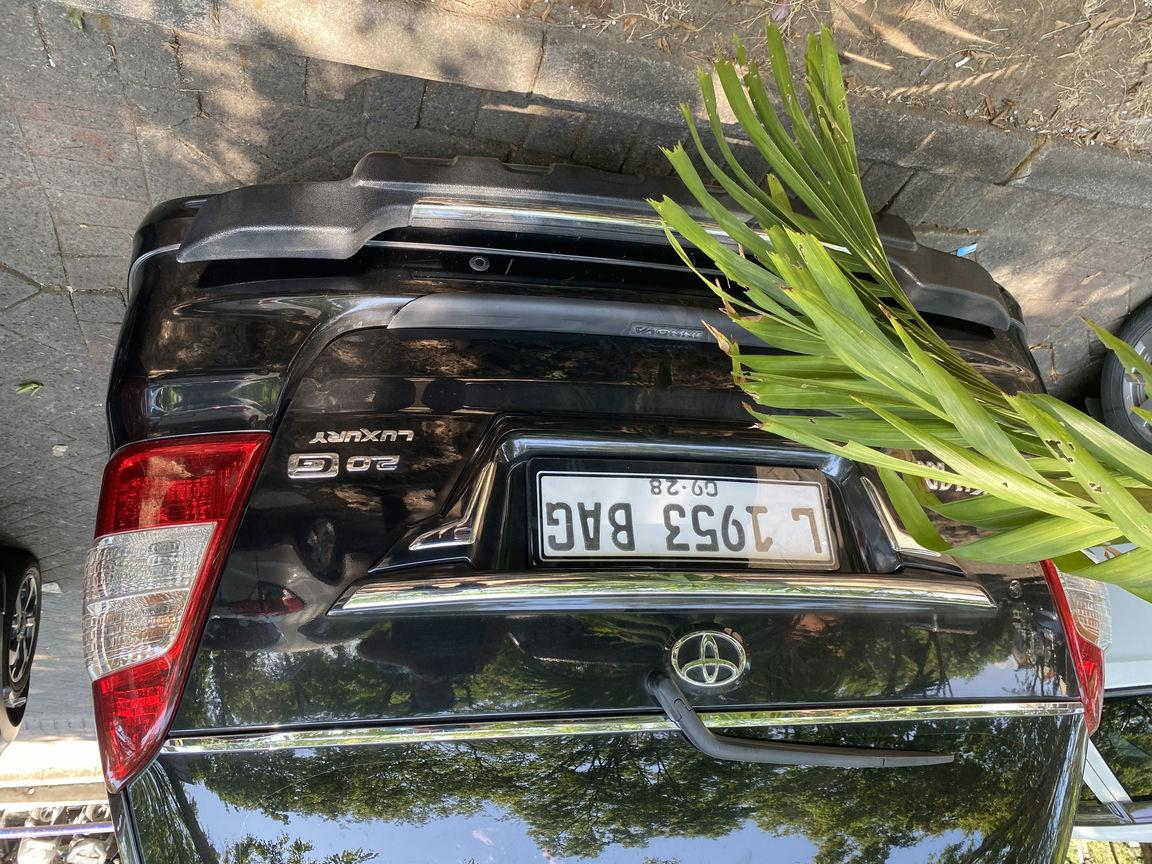plat: (317, 297, 614, 392)
